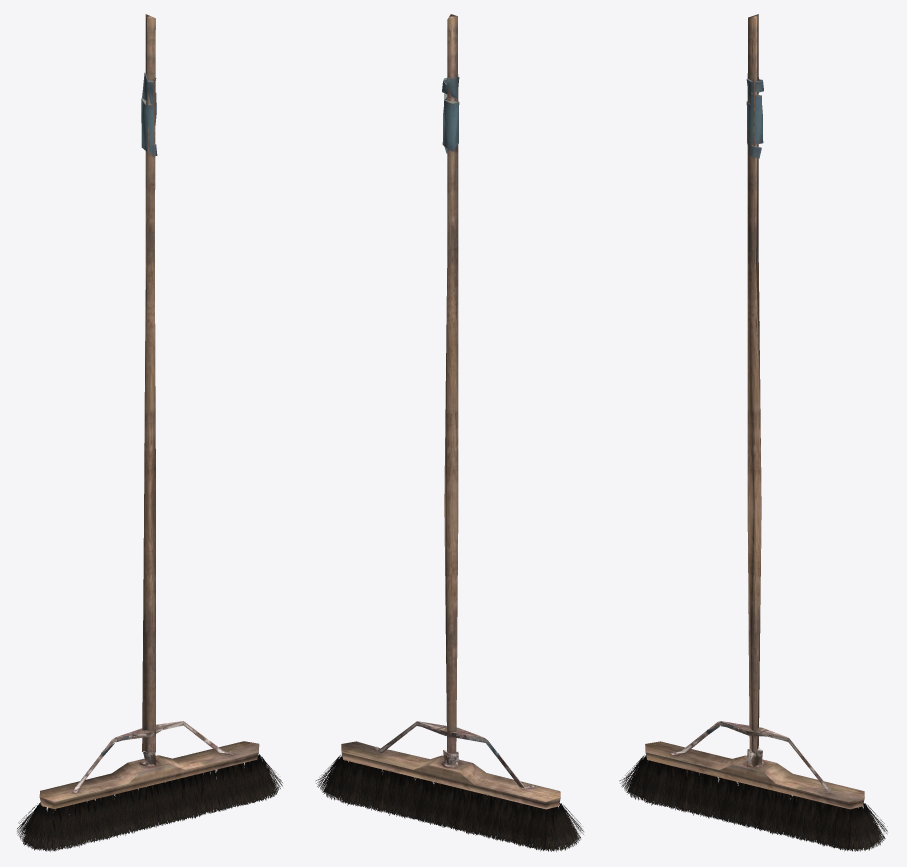
File: wooden_broom.glb
3 views of the same model, side by side, from view 1: azimuth 30°, elevation 25°; view 2: azimuth 150°, elevation 25°; view 3: azimuth 330°, elevation 25° (orthographic).
Parts seen in each view (by area): view 1: wooden_broom; view 2: wooden_broom; view 3: wooden_broom.
Part boxes in pixels (x1,y1,x2,y2): wooden_broom: (17, 14, 282, 851); wooden_broom: (315, 14, 583, 851); wooden_broom: (619, 14, 887, 851).
Bounding box in the file's own units: 0.4902 × 1.44 × 0.1125.
2 materials, 2 textured.
